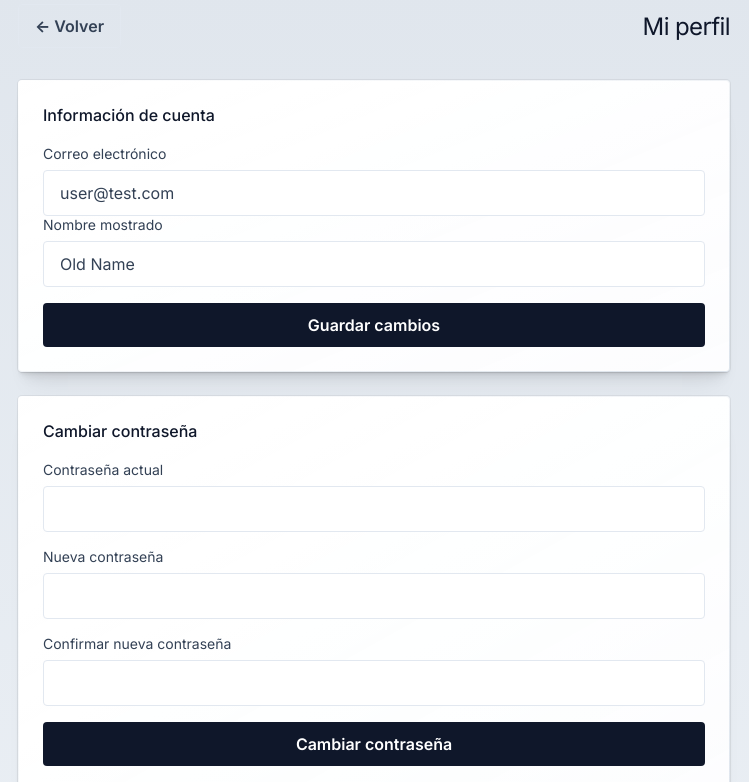
Test: ProfileView › blocks the password change when the new passwords do not match
Type "OldPass123$" into the password field labelled "Contraseña actual" at [374, 509], box [43,486,705,532]
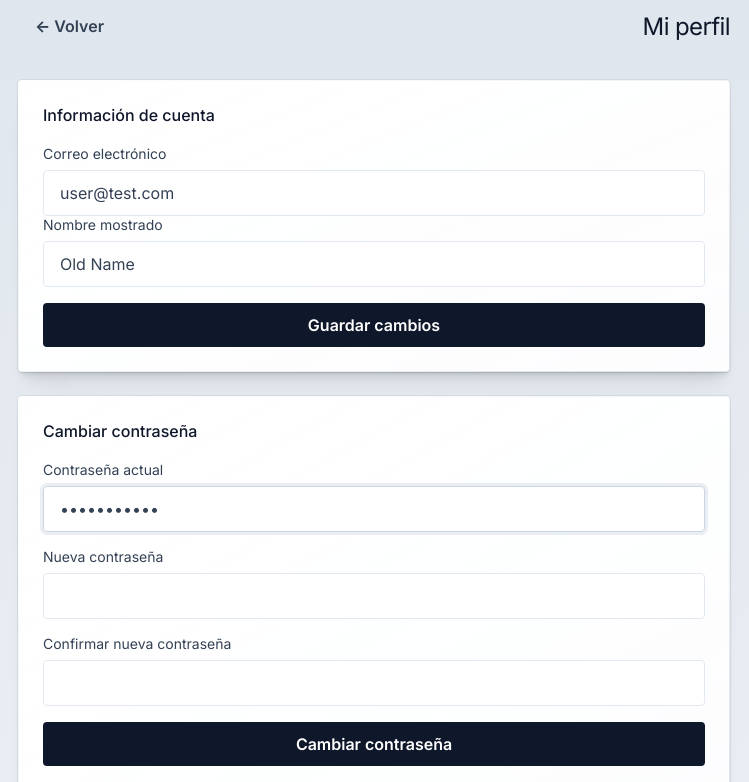
Type "NewPass123$" into the password field labelled "Nueva contraseña" at [374, 596], box [43,573,705,619]
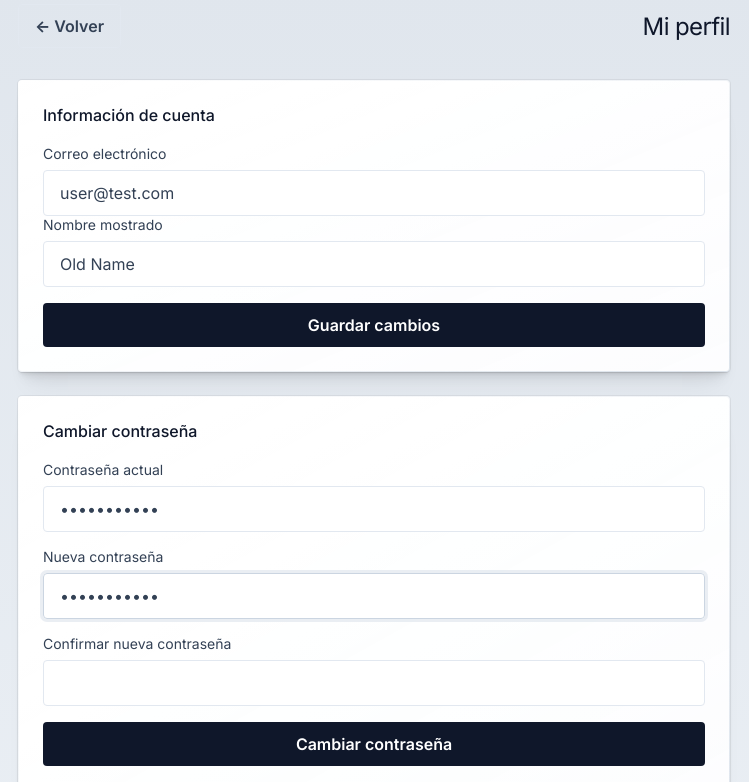
Type "OtherPass123$" into the password field labelled "Confirmar nueva contraseña" at [374, 683], box [43,660,705,706]
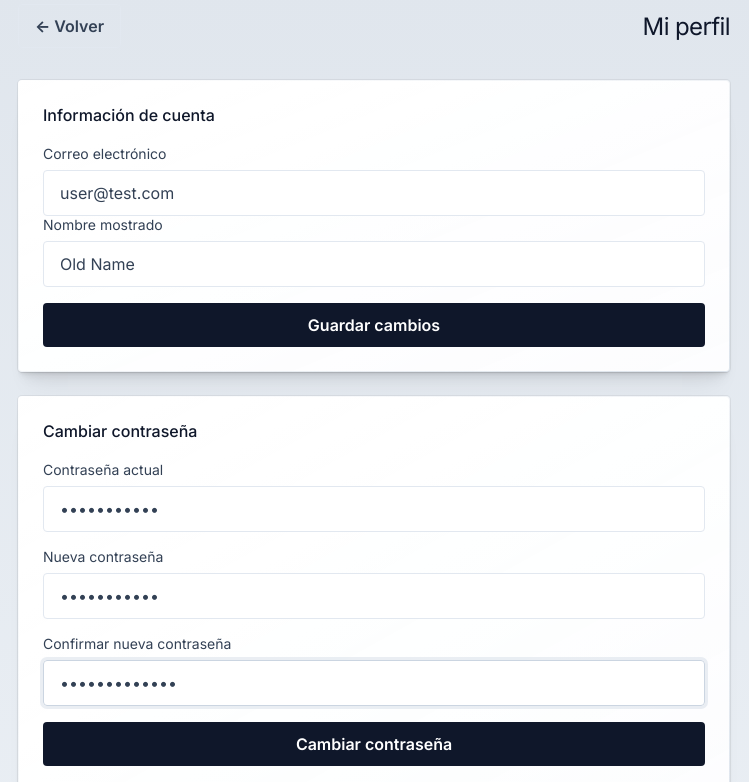
Click the button "Cambiar contraseña" at [374, 744], box [43,722,705,766]
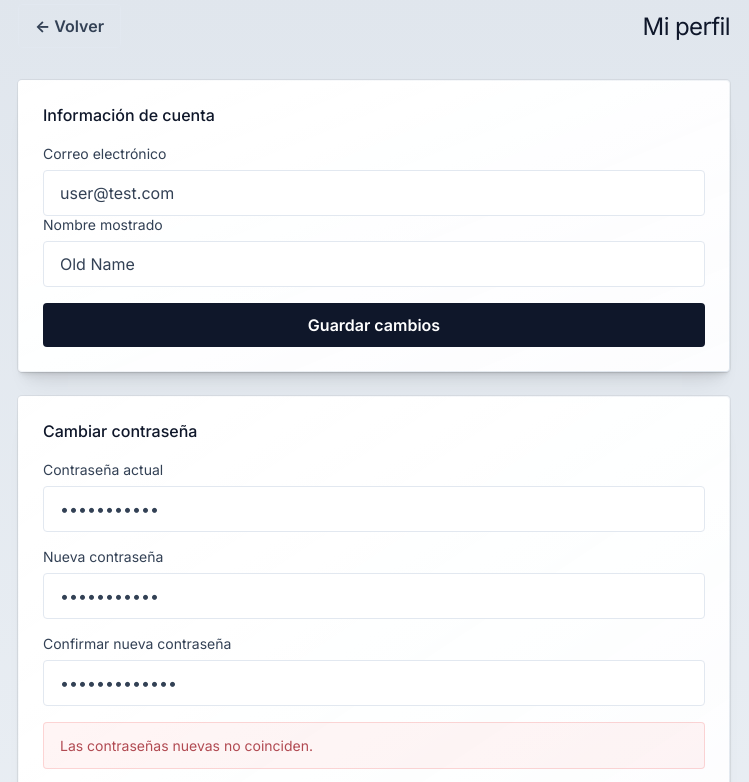
Check: the message reads "Las contraseñas nuevas no coinciden.", box [60,737,313,754]
